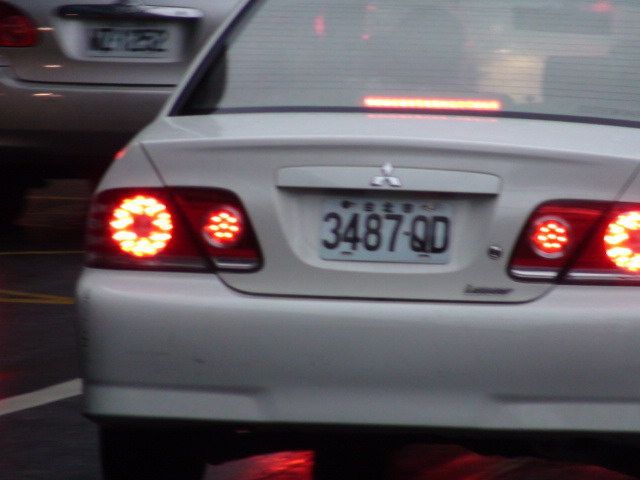plate: (317, 192, 454, 267)
